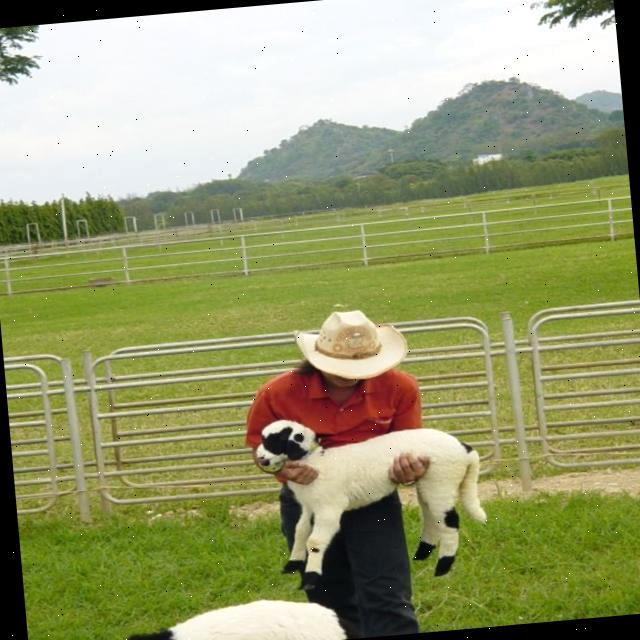sheep: (256, 418, 467, 588), (121, 596, 343, 640)
